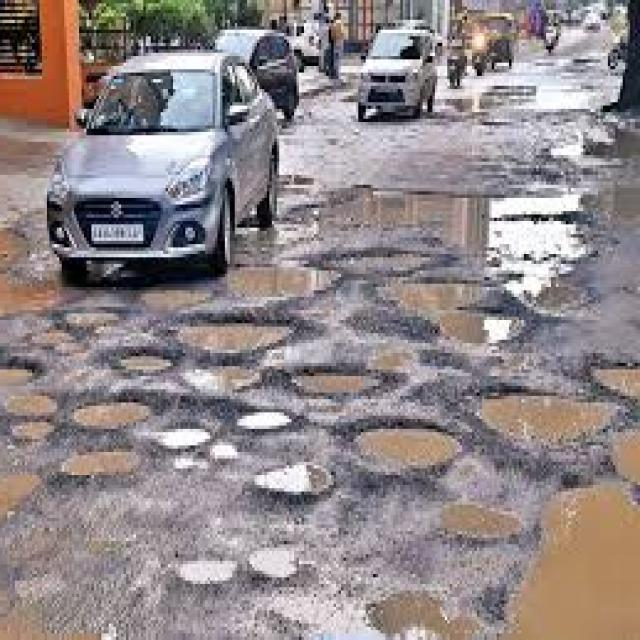Pothole: (514, 508, 640, 640), (400, 228, 566, 326), (483, 399, 602, 439), (368, 439, 454, 478), (178, 323, 288, 352), (240, 267, 328, 297), (304, 359, 371, 398), (74, 402, 148, 432), (346, 409, 402, 448), (61, 452, 138, 475)
